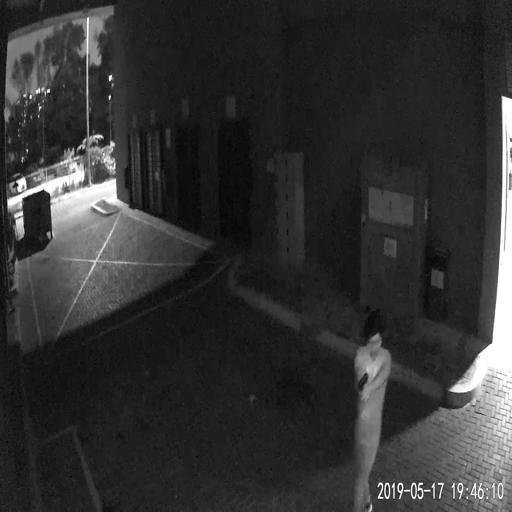Handgun: (356, 369, 367, 400)
